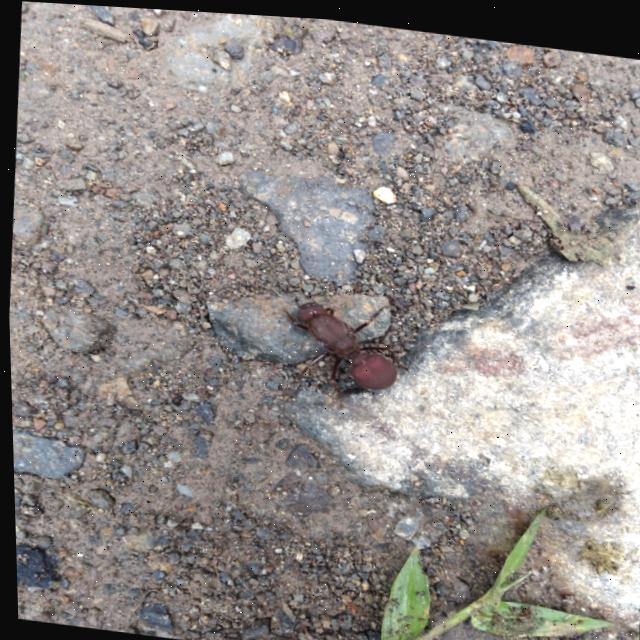Alive-Female-Dealate: (273, 287, 411, 412)
